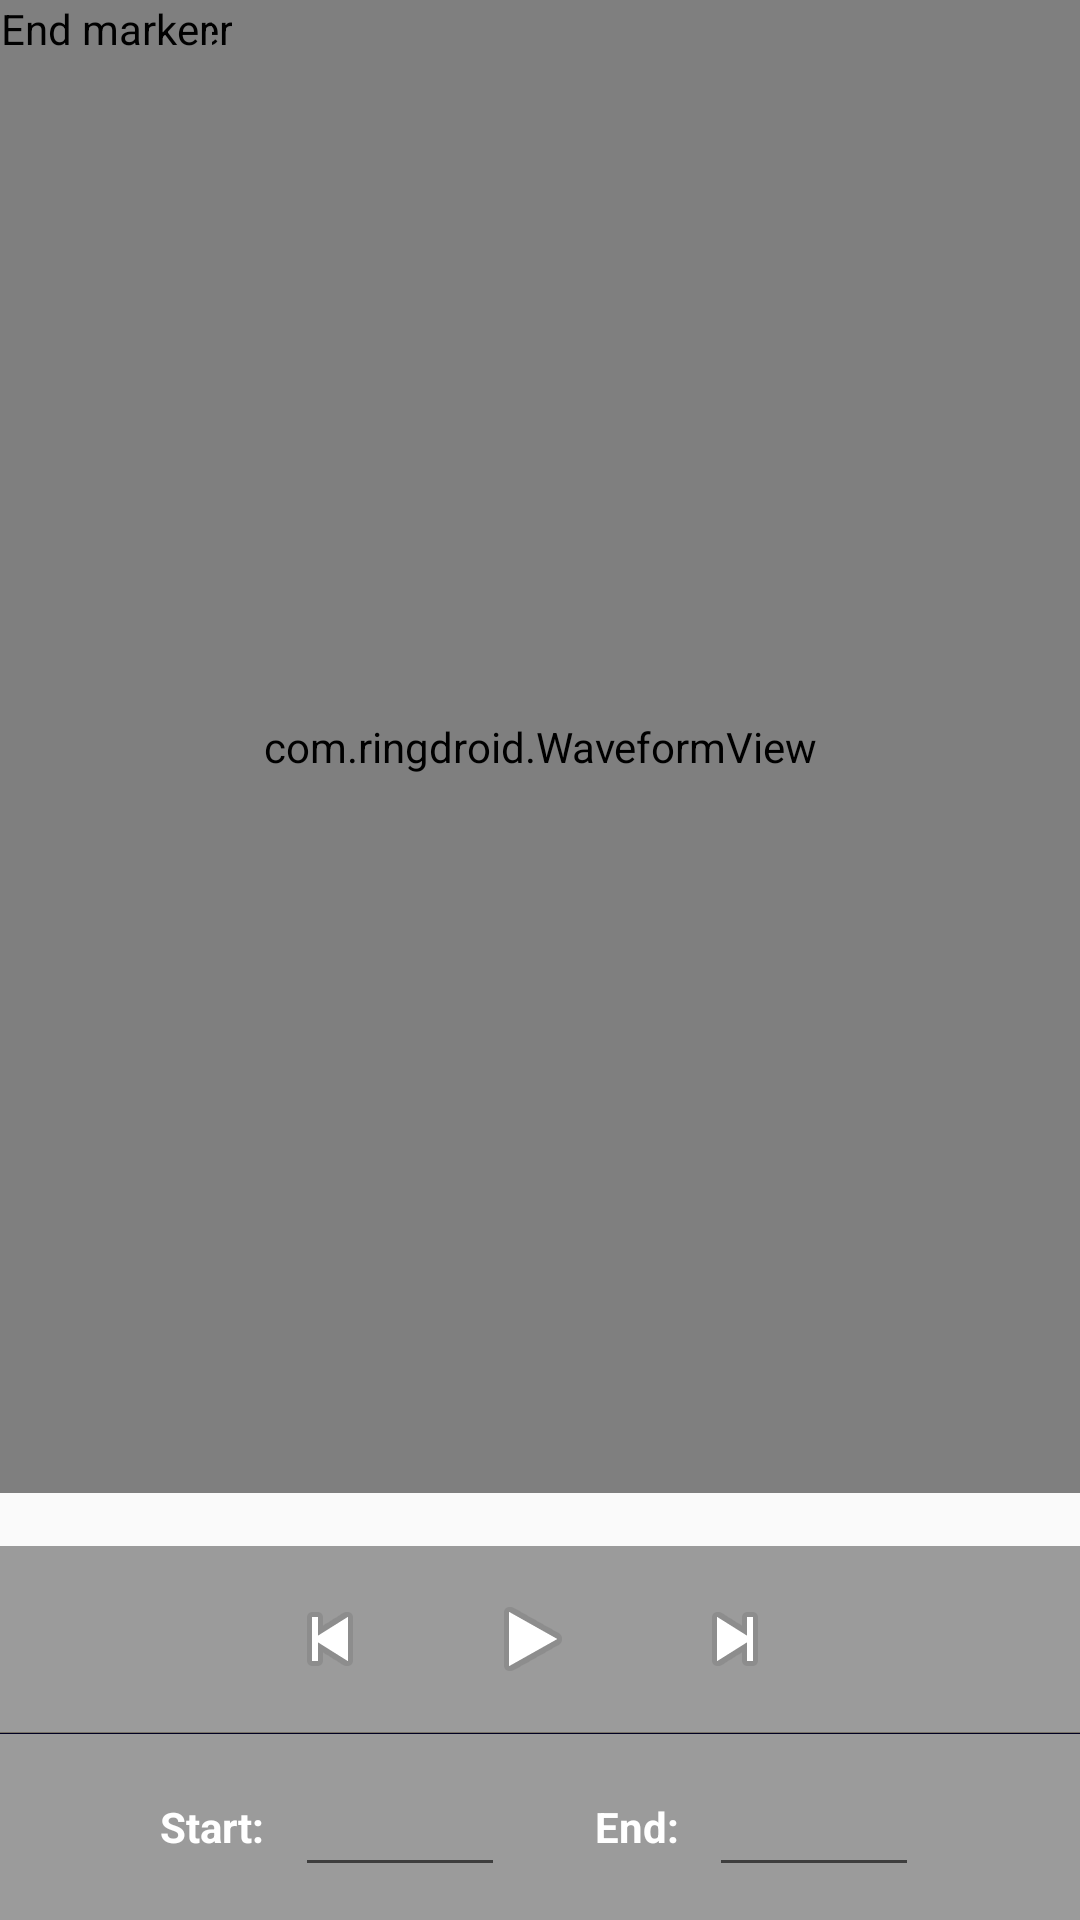

Where to tap for icons on this 1080 x 1920 app screen, as (x,y):
Fast forward: (735,1639)
Play: (533,1639)
Rewind: (330,1639)
